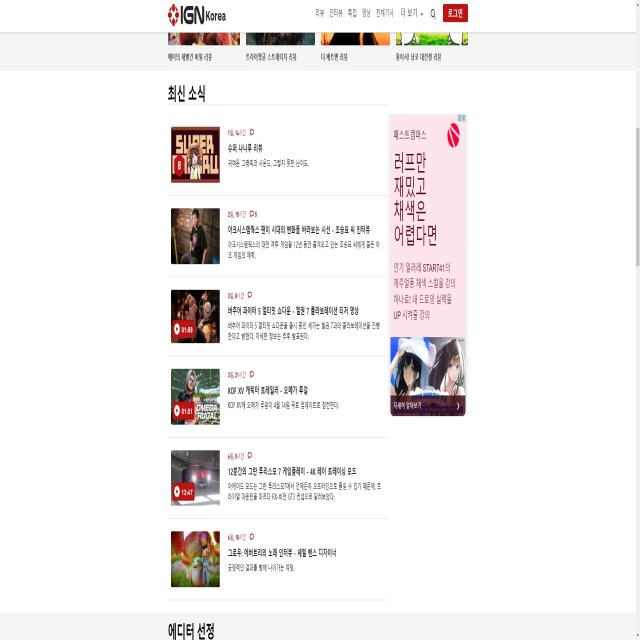menu-bar: (313, 2, 472, 26)
